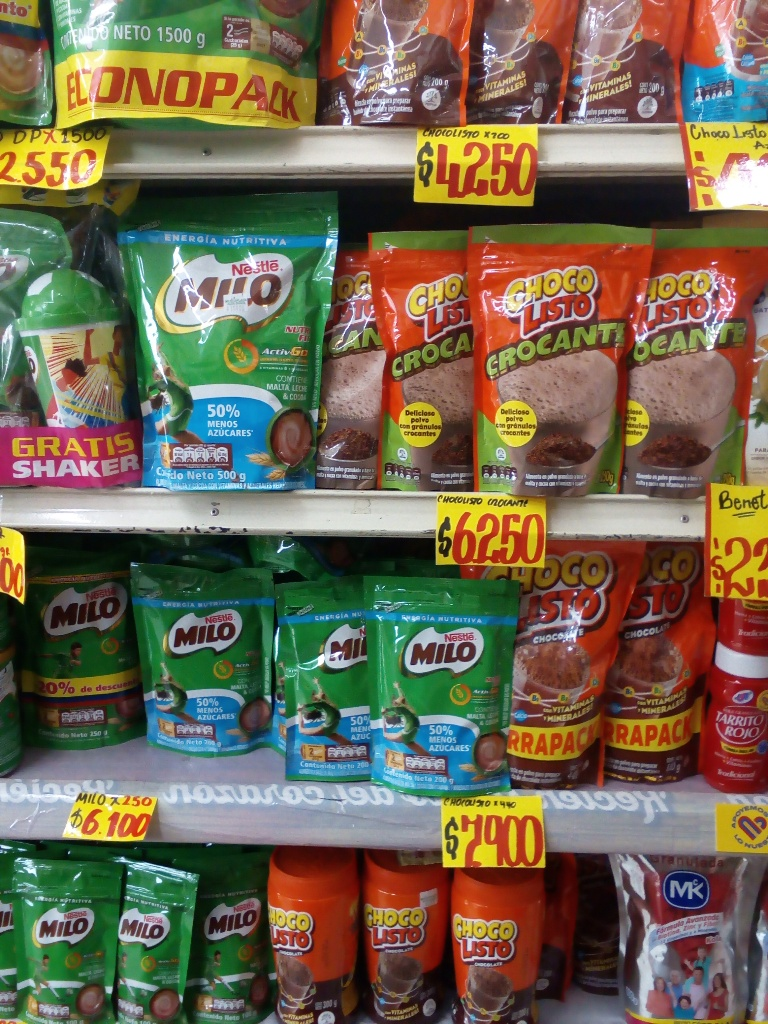COL0170102DYP25000: (467, 222, 633, 496)
COL0170103DYP44000: (499, 555, 623, 795)
COL0170103TRR30000: (267, 853, 362, 1023)
COL0170203DYP10000: (5, 855, 117, 1024)
COL0170203DYP25000: (19, 563, 147, 747)
COL0170205DYP20000: (363, 577, 511, 796)
COL0170205DYP50000: (119, 191, 326, 490)
